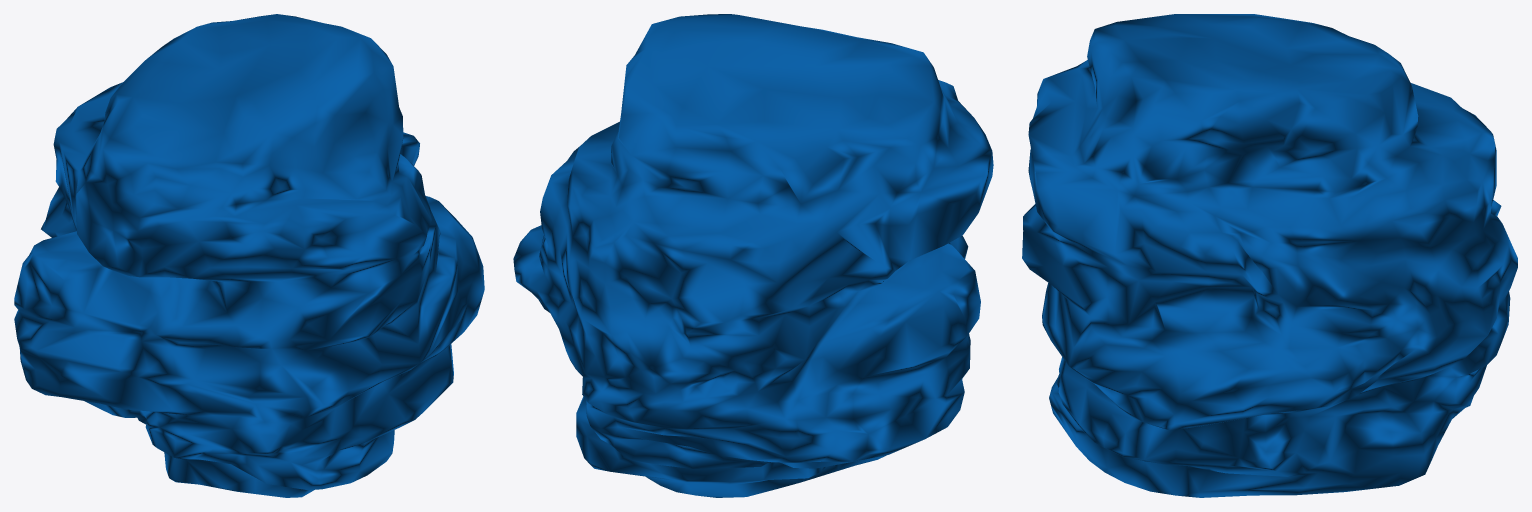
File: stone_mid_1.glb
3 views of the same model, side by side, from view 1: azimuth 30°, elevation 25°; view 2: azimuth 150°, elevation 25°; view 3: azimuth 270°, elevation 25° (orthographic). The views are drawn at different scales.
Parts seen in each view (by area): view 1: Mid_1; view 2: Mid_1; view 3: Mid_1.
Part boxes in pixels (x1,y1,x2,y2): Mid_1: [14, 14, 484, 497]; Mid_1: [513, 14, 993, 497]; Mid_1: [1022, 14, 1517, 497].
Size of the model in its own units: 4.27 by 3.78 by 3.99.
1 material, 1 textured.
